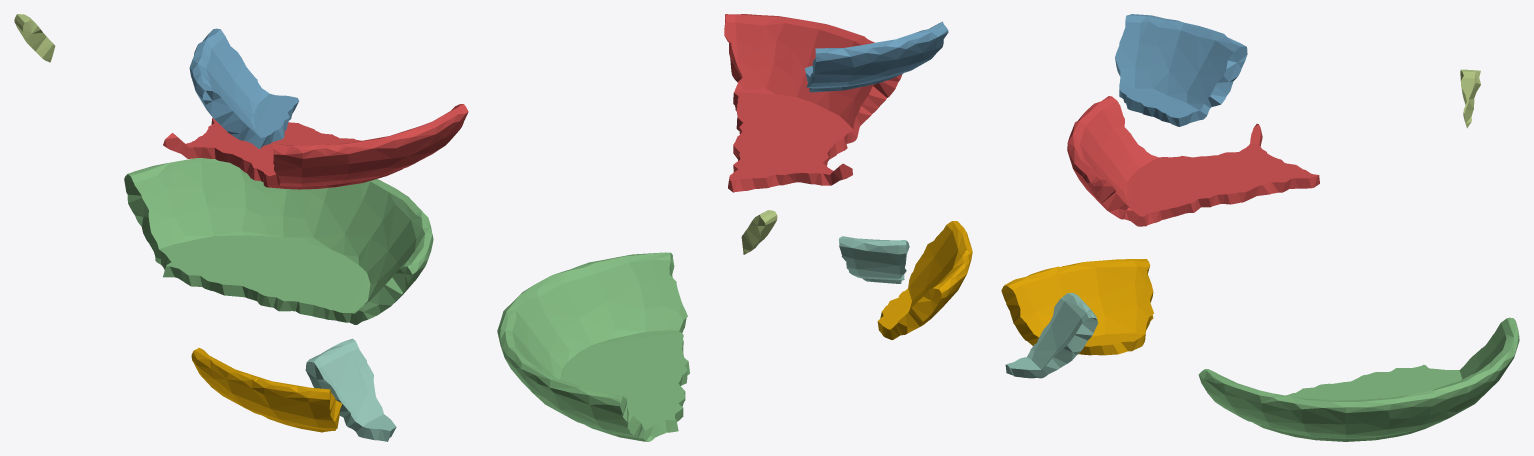
The model's file is fractured_54_6pcs_transformed.glb.
3 renders of one model, left to right at view 1: azimuth 30°, elevation 25°; view 2: azimuth 150°, elevation 25°; view 3: azimuth 270°, elevation 25°, orthographic. The views are drawn at different scales.
Visible parts, largest first — view 1: piece_3.obj, piece_1.obj, piece_2.obj, piece_0.obj, piece_4.obj, piece_5.obj; view 2: piece_3.obj, piece_1.obj, piece_0.obj, piece_2.obj, piece_4.obj, piece_5.obj; view 3: piece_3.obj, piece_1.obj, piece_2.obj, piece_0.obj, piece_4.obj, piece_5.obj.
Part boxes in pixels (bbox=[...]): piece_3.obj: bbox=[124, 158, 433, 324]; piece_1.obj: bbox=[163, 104, 468, 189]; piece_2.obj: bbox=[189, 28, 298, 148]; piece_0.obj: bbox=[191, 348, 341, 432]; piece_4.obj: bbox=[305, 338, 396, 441]; piece_5.obj: bbox=[14, 14, 55, 62]; piece_3.obj: bbox=[497, 252, 689, 441]; piece_1.obj: bbox=[724, 14, 902, 192]; piece_0.obj: bbox=[877, 221, 972, 339]; piece_2.obj: bbox=[805, 21, 948, 92]; piece_4.obj: bbox=[839, 236, 909, 283]; piece_5.obj: bbox=[741, 210, 777, 254]; piece_3.obj: bbox=[1198, 317, 1519, 441]; piece_1.obj: bbox=[1067, 96, 1319, 226]; piece_2.obj: bbox=[1115, 14, 1247, 126]; piece_0.obj: bbox=[1001, 259, 1153, 355]; piece_4.obj: bbox=[1005, 293, 1097, 378]; piece_5.obj: bbox=[1460, 69, 1480, 128].
Bounding box in the file's own units: 1 × 0.9746 × 1.49.
